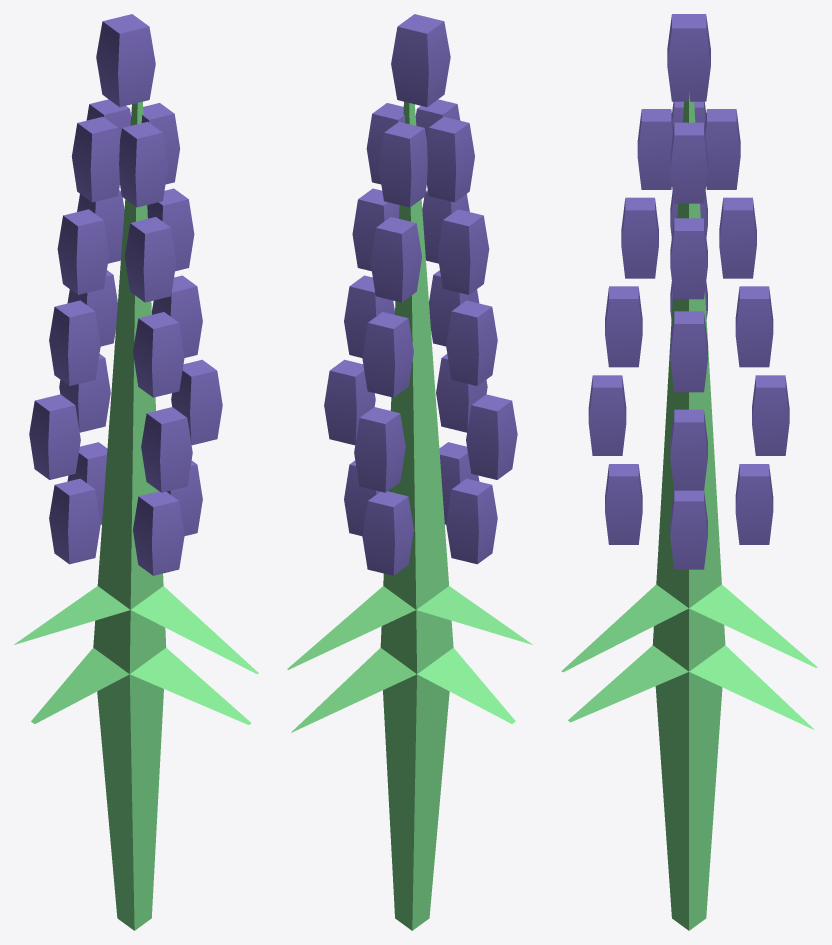
The model's file is 09_aconite.fbx.
3 renders of one model, left to right at view 1: azimuth 30°, elevation 25°; view 2: azimuth 150°, elevation 25°; view 3: azimuth 270°, elevation 25°, orthographic.
Visible parts, largest first — view 1: pPlatonic22; view 2: pPlatonic22; view 3: pPlatonic22.
Part boxes in pixels (<box>): pPlatonic22: <box>14,14,258,930</box>; pPlatonic22: <box>287,14,532,930</box>; pPlatonic22: <box>561,14,817,930</box>.
Size of the model in its own units: 0.7015 by 3.03 by 0.7855.
